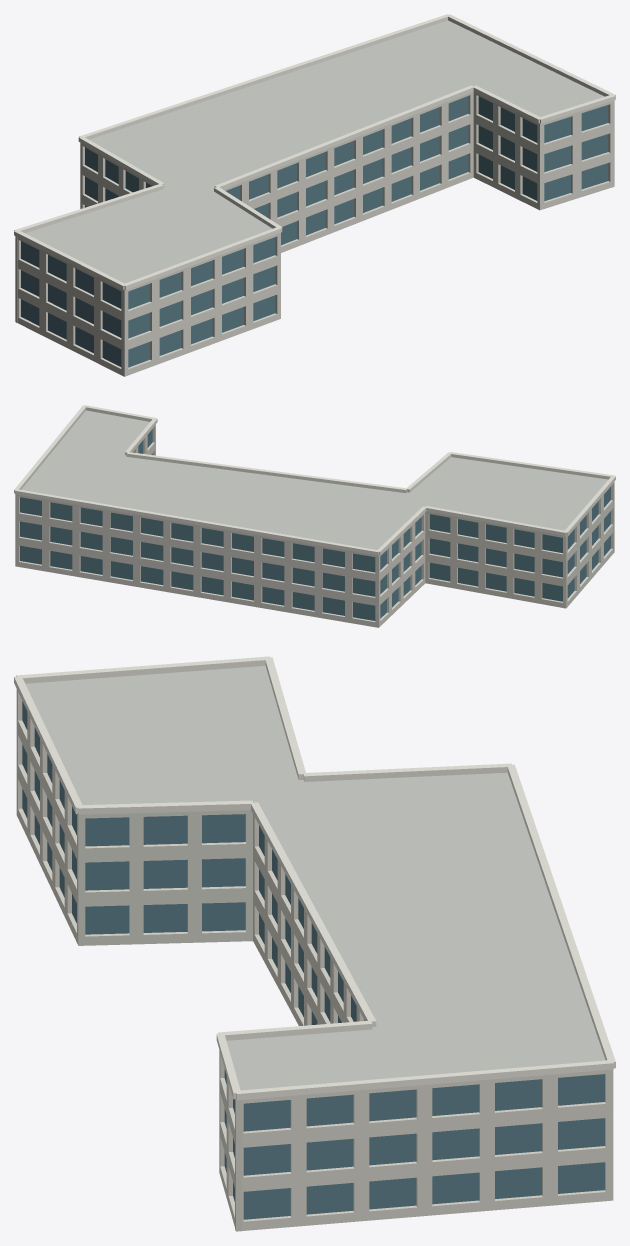
File: sb_1556514391.far.glb
3 renders of one model, top to bottom at view 1: azimuth 30°, elevation 25°; view 2: azimuth 150°, elevation 25°; view 3: azimuth 270°, elevation 25°, orthographic. The views are drawn at different scales.
Visible parts, largest first — view 1: roof, wall, glass, trim; view 2: roof, wall, glass, trim; view 3: roof, wall, glass, trim.
Boxes of the visible parts, box(x1,y1,x2,y2) form: roof: box(25, 20, 604, 283); wall: box(15, 91, 614, 376); glass: box(21, 96, 608, 367); trim: box(14, 14, 615, 290); roof: box(21, 410, 607, 549); wall: box(15, 424, 614, 627); glass: box(20, 429, 610, 620); trim: box(14, 405, 615, 555); roof: box(25, 665, 605, 1090); wall: box(16, 689, 613, 1231); glass: box(22, 701, 604, 1219); trim: box(14, 656, 615, 1100).
Bounding box in the file's own units: 66.01 × 9.74 × 38.36.
